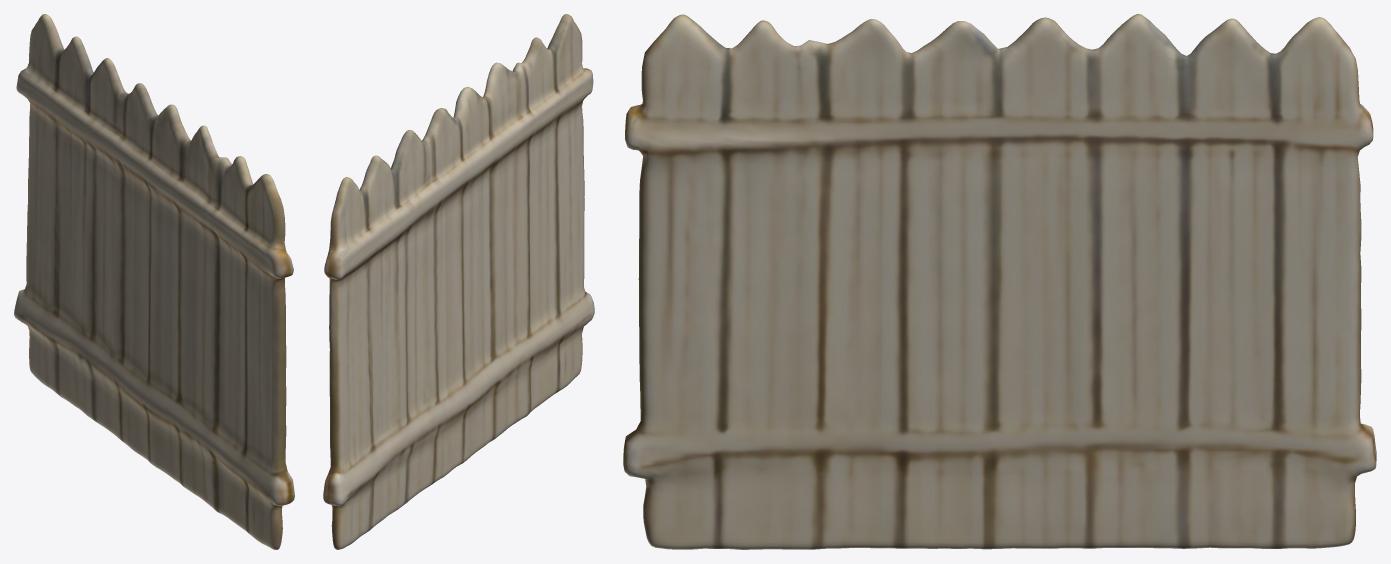
The model's file is _wooden_fence__3d_as.obj.
The picture shows the model from 3 angles, left to right: view 1: azimuth 30°, elevation 25°; view 2: azimuth 150°, elevation 25°; view 3: azimuth 270°, elevation 25°; orthographic projection. The views are drawn at different scales.
Visible parts, largest first — view 1: mesh; view 2: mesh; view 3: mesh.
Part boxes in pixels (x1,y1,x2,y2): mesh: (14, 14, 294, 549); mesh: (323, 14, 594, 549); mesh: (623, 14, 1376, 549).
Bounding box in the file's own units: 0.0557 × 0.7814 × 0.9992.
